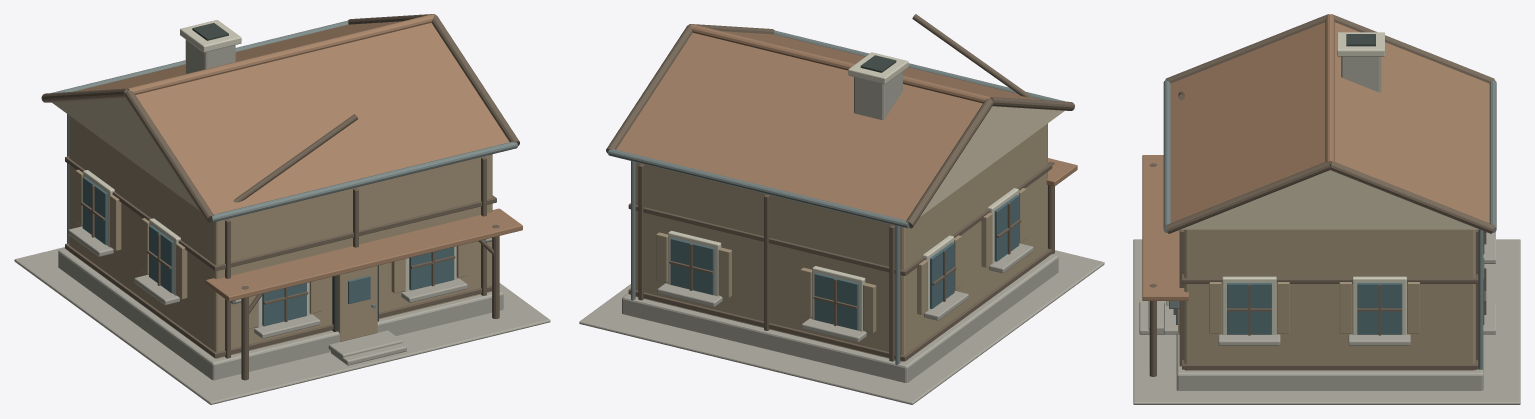
The model's file is district_art_3.glb.
The picture shows the model from 3 angles, left to right: view 1: azimuth 30°, elevation 25°; view 2: azimuth 150°, elevation 25°; view 3: azimuth 270°, elevation 25°; orthographic projection. The views are drawn at different scales.
Parts seen in each view (by area): view 1: roof, wood, stone, timber, glass, plaster, metal, trim, dark; view 2: roof, wood, stone, timber, glass, metal, plaster, trim; view 3: roof, wood, stone, timber, plaster, glass, metal, trim, dark.
Part boxes in pixels (<box>): roof: <box>74,14,522,301</box>; wood: <box>69,115,492,358</box>; stone: <box>14,39,550,404</box>; timber: <box>41,14,519,380</box>; glass: <box>82,177,454,326</box>; plaster: <box>52,98,199,210</box>; metal: <box>50,20,517,308</box>; trim: <box>83,20,491,327</box>; dark: <box>192,23,378,331</box>; roof: <box>616,24,1077,220</box>; wood: <box>635,123,1047,361</box>; stone: <box>579,71,1104,404</box>; timber: <box>606,14,1074,361</box>; glass: <box>670,195,1019,329</box>; metal: <box>608,30,1065,364</box>; plaster: <box>920,106,1064,216</box>; trim: <box>668,52,1018,331</box>; roof: <box>1142,14,1489,300</box>; wood: <box>1178,229,1475,370</box>; stone: <box>1133,56,1520,404</box>; timber: <box>1149,14,1494,376</box>; plaster: <box>1180,170,1479,229</box>; glass: <box>1176,232,1484,334</box>; metal: <box>1163,80,1496,369</box>; trim: <box>1166,32,1406,334</box>; dark: <box>1346,34,1375,46</box>.
Size of the model in its own units: 12.5 by 9.19 by 12.5.
